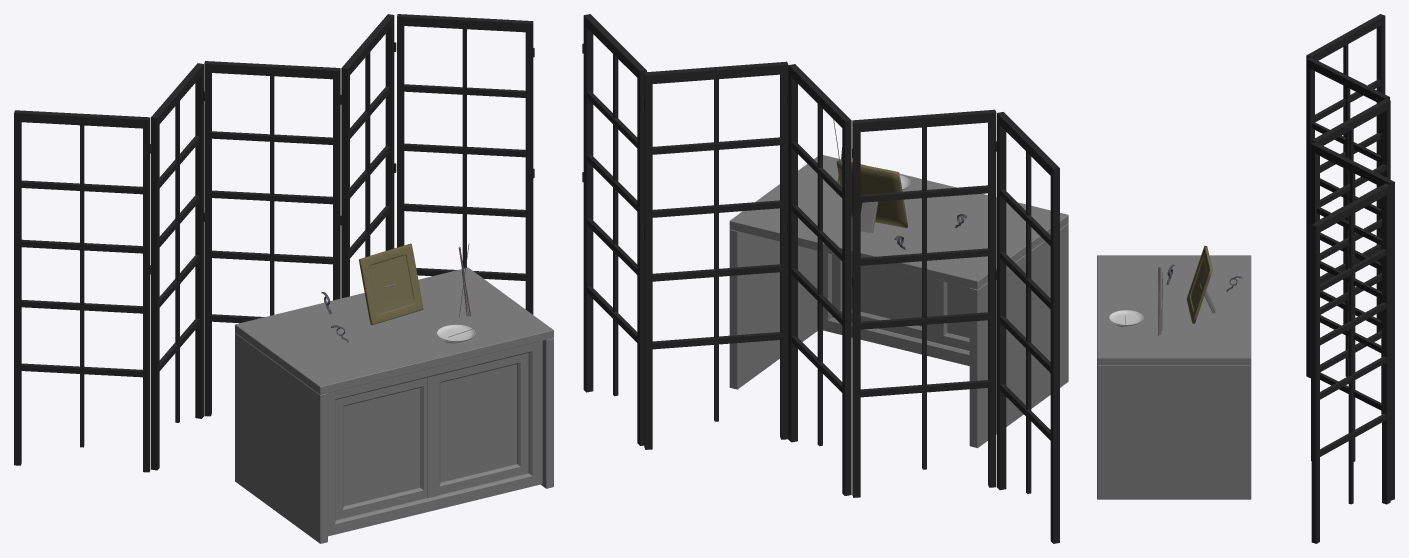
Rendered from candles.fbx.
3 renders of one model, left to right at view 1: azimuth 30°, elevation 25°; view 2: azimuth 150°, elevation 25°; view 3: azimuth 270°, elevation 25°, orthographic. The views are drawn at different scales.
Visible parts, largest first — view 1: Front, Top, SideL, Frame, pCube3_ncl1_3, pCube4_ncl1_3, pCube4_ncl1_4, pCube3_ncl1_4, pCube3_ncl1_2, pCube4, pCube4_ncl1_1, pCube3_ncl1_1 (+24 smaller); view 2: Top, SideL, Front, SideR, pCube4, pCube3_ncl1_2, pCube3_ncl1_4, pCube4_ncl1_2, pCube4_ncl1_4, pCube4_ncl1_1, pCube4_ncl1_3, pCube3_ncl1_3 (+29 smaller); view 3: SideR, Top, pCube4, pCube3, pCube3_ncl1_3, pCube4_ncl1_1, pCube9, pCube3_ncl1_4, Frame, pCube2_ncl1_3, pCube2_ncl1_1, pCube2 (+22 smaller).
Part boxes in pixels (left/top/right/bottom): Front: left=328, top=341, right=542, bottom=536; Top: left=235, top=267, right=553, bottom=394; SideL: left=235, top=332, right=327, bottom=543; Frame: left=359, top=243, right=423, bottom=325; pCube3_ncl1_3: left=151, top=117, right=159, bottom=470; pCube4_ncl1_3: left=195, top=65, right=203, bottom=418; pCube4_ncl1_4: left=143, top=118, right=150, bottom=472; pCube3_ncl1_4: left=14, top=113, right=21, bottom=465; pCube3_ncl1_2: left=204, top=64, right=211, bottom=416; pCube4: left=525, top=21, right=533, bottom=314; pCube4_ncl1_1: left=385, top=16, right=394, bottom=250; pCube3_ncl1_1: left=341, top=68, right=349, bottom=298; Top: left=729, top=155, right=1068, bottom=289; SideL: left=969, top=223, right=1068, bottom=448; Front: left=817, top=251, right=969, bottom=365; SideR: left=729, top=229, right=817, bottom=389; pCube4: left=583, top=15, right=593, bottom=392; pCube3_ncl1_2: left=842, top=120, right=851, bottom=495; pCube3_ncl1_4: left=1050, top=168, right=1059, bottom=543; pCube4_ncl1_2: left=788, top=65, right=797, bottom=442; pCube4_ncl1_4: left=997, top=114, right=1006, bottom=490; pCube4_ncl1_1: left=644, top=73, right=652, bottom=449; pCube4_ncl1_3: left=852, top=121, right=860, bottom=497; pCube3_ncl1_3: left=988, top=113, right=996, bottom=487; SideR: left=1097, top=365, right=1251, bottom=499; Top: left=1097, top=255, right=1251, bottom=365; pCube4: left=1311, top=225, right=1319, bottom=543; pCube3: left=1382, top=185, right=1390, bottom=504; pCube3_ncl1_3: left=1306, top=59, right=1314, bottom=378; pCube4_ncl1_1: left=1389, top=182, right=1394, bottom=500; pCube9: left=1348, top=214, right=1353, bottom=504; pCube3_ncl1_4: left=1376, top=16, right=1385, bottom=332; Frame: left=1186, top=246, right=1212, bottom=323; pCube2_ncl1_3: left=1306, top=57, right=1389, bottom=102; pCube2_ncl1_1: left=1311, top=142, right=1394, bottom=186; pCube2: left=1312, top=183, right=1390, bottom=232.
Size of the model in its own units: 393 by 273 by 232.
